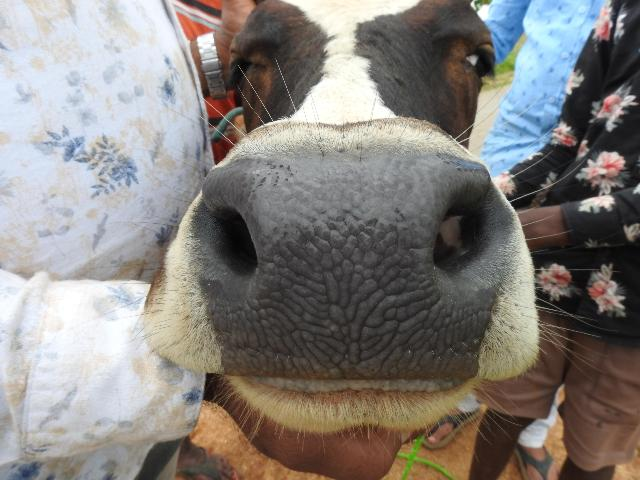Muzzle: (232, 161, 448, 370)
